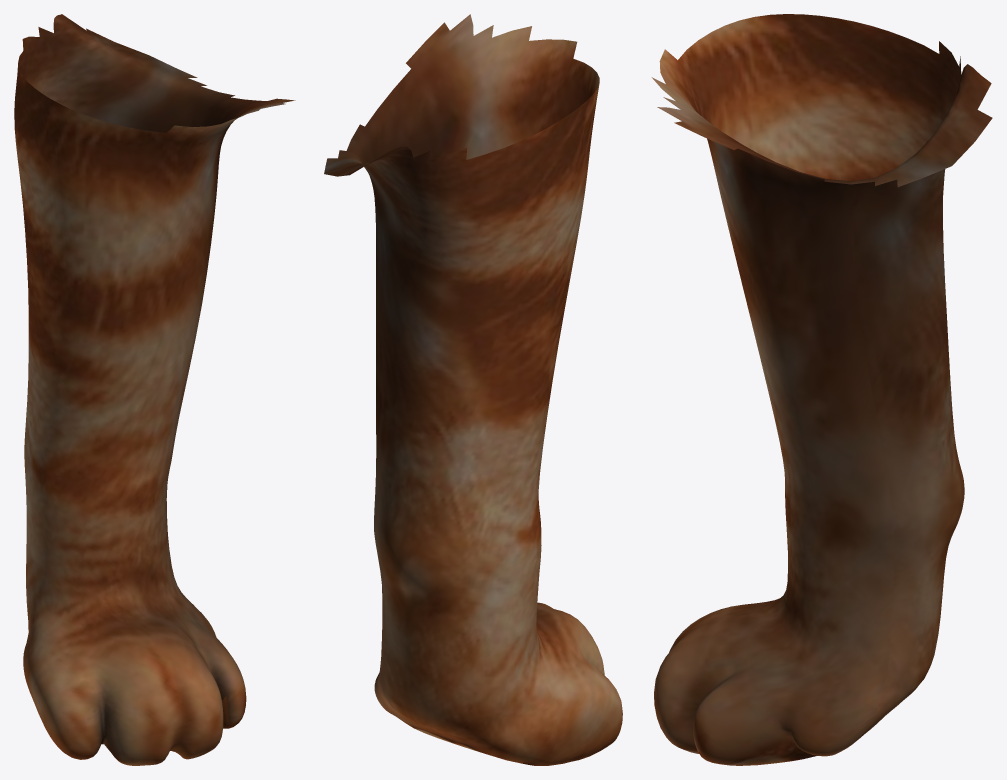
The model's file is cathands.fbx.
3 renders of one model, left to right at view 1: azimuth 30°, elevation 25°; view 2: azimuth 150°, elevation 25°; view 3: azimuth 270°, elevation 25°, orthographic. The views are drawn at different scales.
Parts seen in each view (by area): view 1: 12221_Cat_v1_l3; view 2: 12221_Cat_v1_l3; view 3: 12221_Cat_v1_l3.
Part boxes in pixels (box(x1,y1,x2,y2)): 12221_Cat_v1_l3: box(14, 14, 295, 765); 12221_Cat_v1_l3: box(324, 14, 622, 765); 12221_Cat_v1_l3: box(651, 14, 992, 765).
Bounding box in the file's own units: 108 × 308 × 139.
